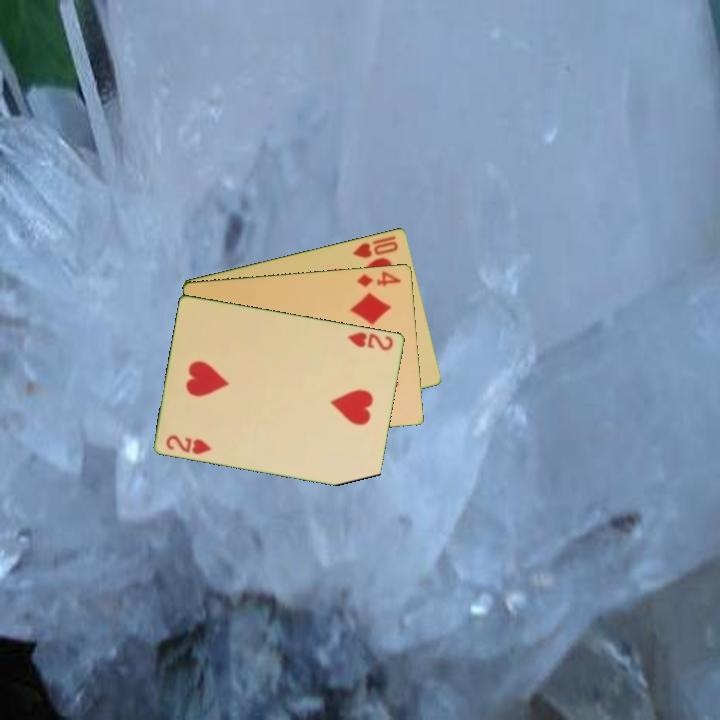10h: (349, 232, 401, 261)
2h: (163, 431, 214, 457), (344, 328, 396, 353)
4d: (354, 267, 404, 290)
